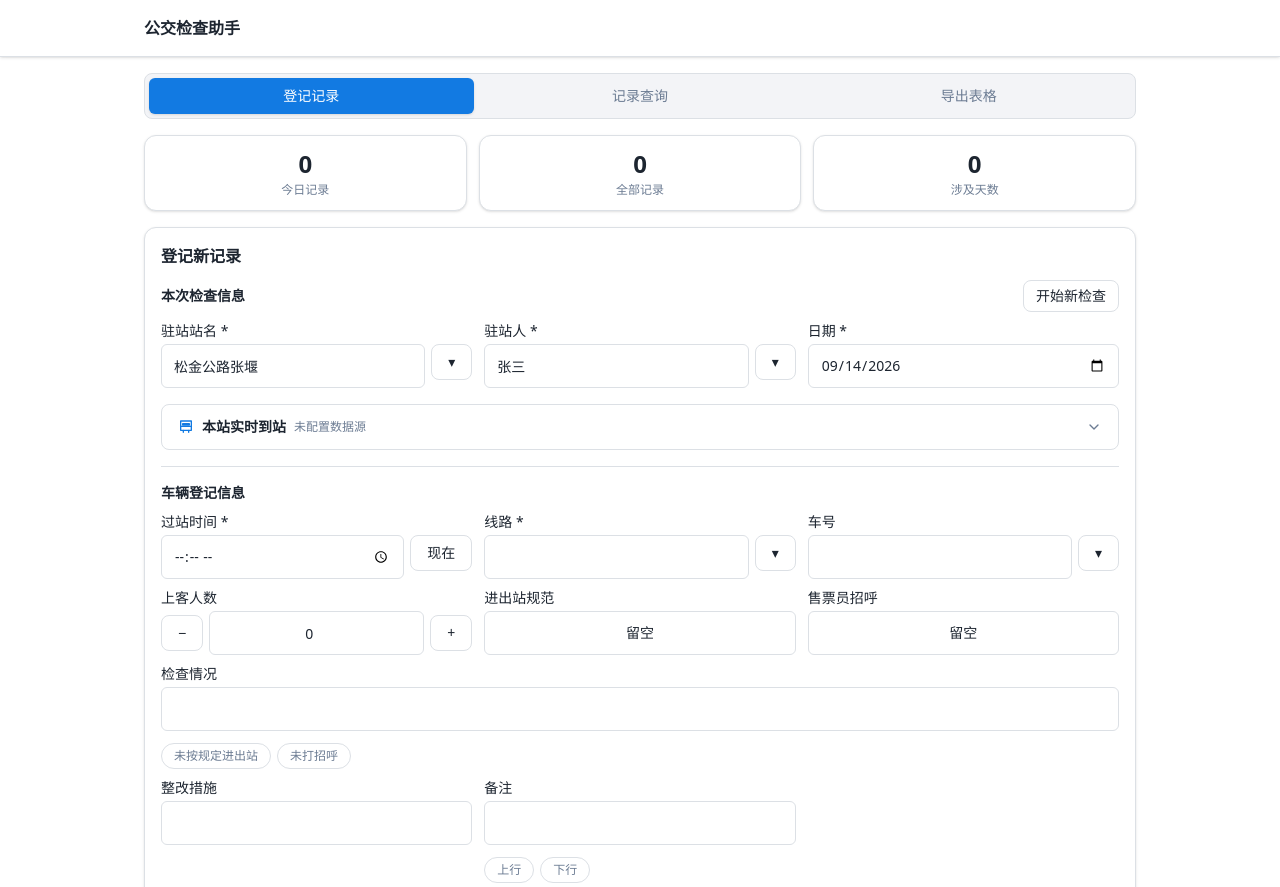
Test case: 驻站实时到站面板 › 未配置代理时给出配置入口，且不请求上游
Click the text "本站实时到站". click: (244, 427)
box: top-left (202, 417), bottom-right (286, 437)
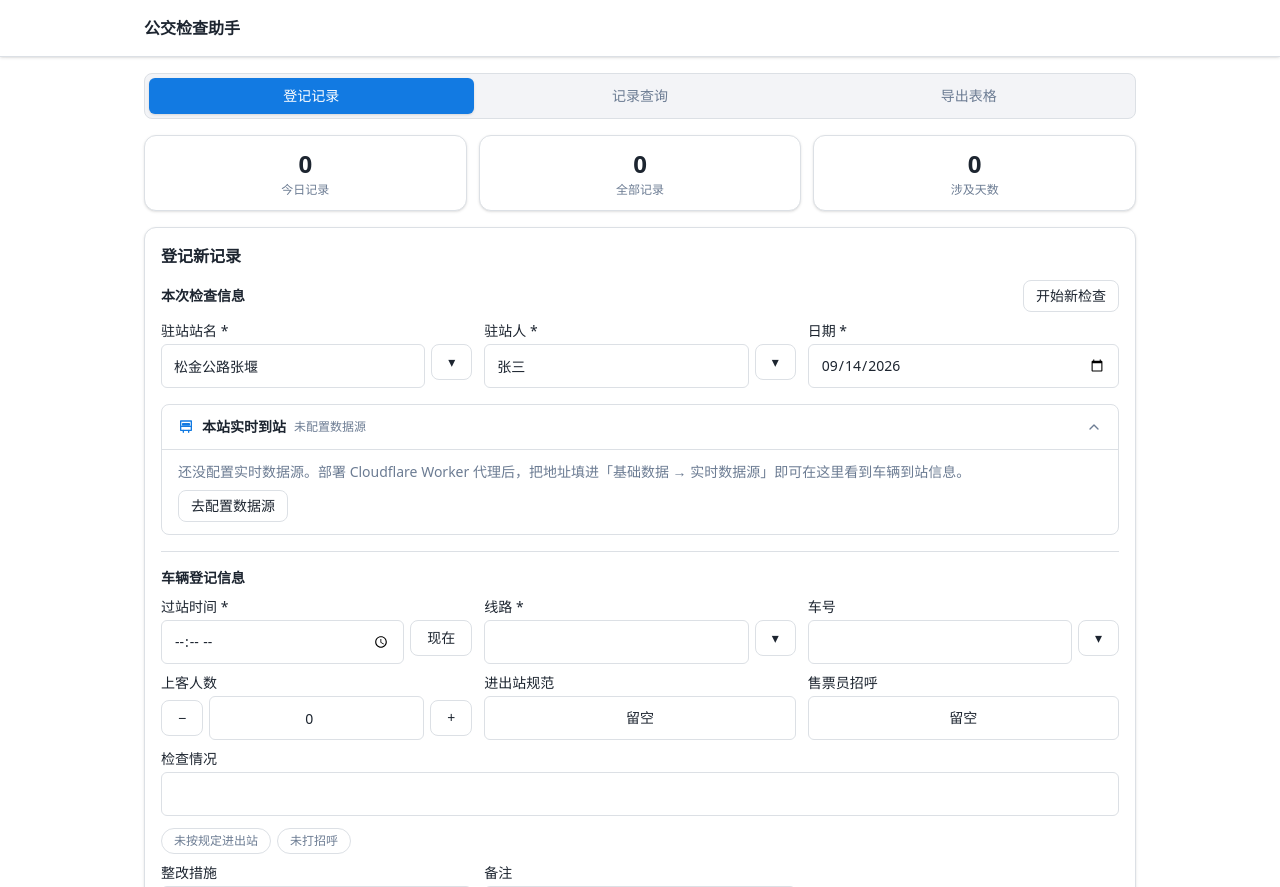
Expected: the button "去配置数据源" is shown, top-left (178, 490), bottom-right (288, 522)
